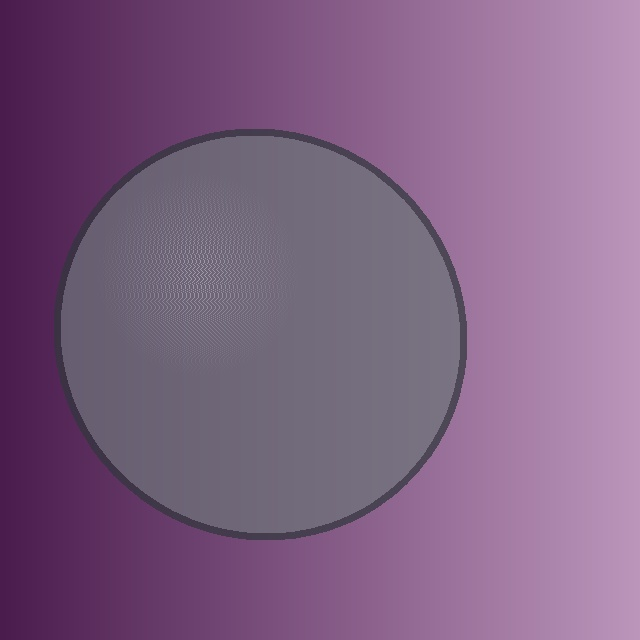lens: (57, 132, 463, 536)
